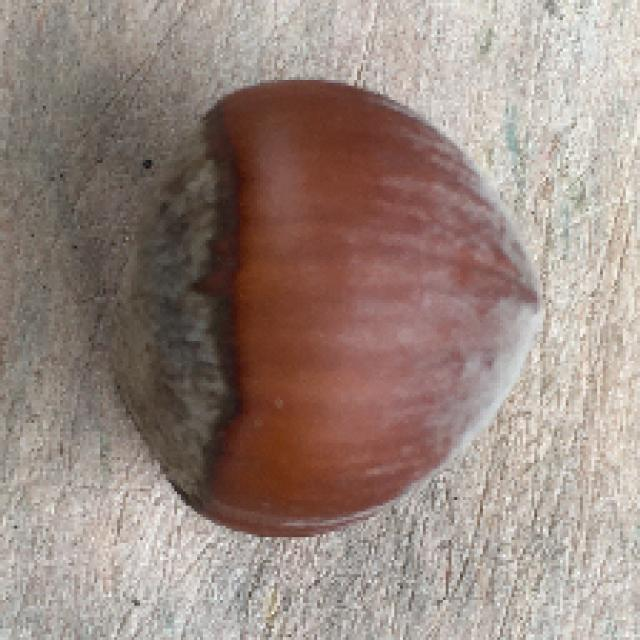qualityHazelnut: (95, 71, 554, 541)
